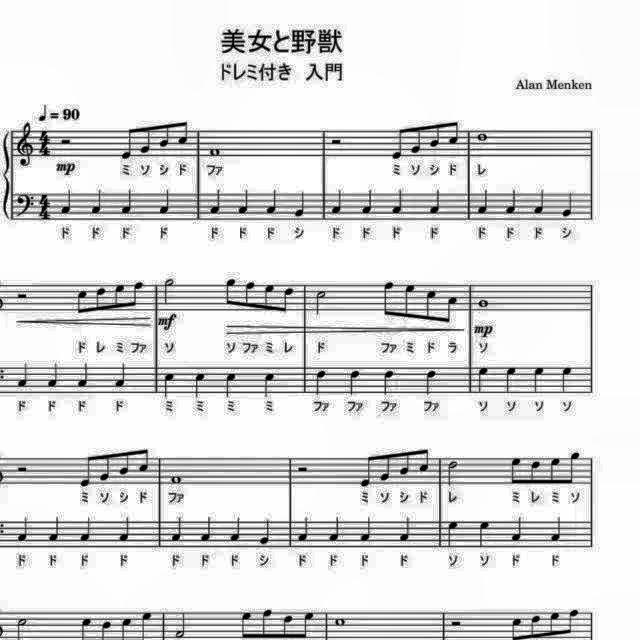Bass-clef: (12, 190, 36, 220)
Eighth-note: (377, 277, 395, 319), (76, 452, 94, 492), (421, 287, 439, 325), (117, 124, 135, 162), (357, 453, 375, 491), (402, 281, 418, 323), (387, 126, 405, 162), (566, 448, 582, 486), (98, 448, 114, 484), (506, 454, 522, 490), (72, 286, 90, 318), (262, 282, 278, 316), (138, 122, 154, 156), (378, 449, 394, 483), (222, 275, 238, 309), (235, 608, 252, 640), (300, 610, 318, 640), (94, 284, 110, 316), (410, 124, 426, 156), (564, 606, 580, 638), (446, 116, 462, 148), (280, 285, 296, 317), (548, 454, 564, 486), (118, 448, 134, 480), (242, 278, 258, 310), (136, 443, 152, 475), (546, 608, 562, 640), (416, 443, 432, 475), (158, 120, 174, 152), (260, 608, 276, 640), (442, 292, 458, 324), (130, 278, 146, 310), (396, 447, 412, 478), (426, 120, 442, 150), (176, 116, 190, 148), (280, 612, 296, 640), (112, 282, 126, 314), (528, 456, 542, 486)
Full-note: (168, 470, 186, 486), (334, 616, 350, 630), (476, 297, 492, 311), (208, 145, 224, 159), (476, 130, 490, 144)
Half-note: (172, 608, 190, 640), (312, 288, 330, 320), (444, 456, 462, 488), (160, 276, 177, 306)
Half-rest: (58, 132, 74, 150), (12, 461, 30, 475), (12, 288, 30, 302), (448, 617, 464, 631), (329, 136, 346, 148), (294, 462, 310, 474)
Quarter-note: (119, 512, 137, 544), (258, 514, 276, 546), (558, 188, 576, 220), (207, 187, 225, 217), (380, 368, 398, 398), (157, 187, 175, 217), (261, 370, 279, 400), (190, 369, 208, 399), (422, 367, 440, 397), (311, 366, 329, 396), (387, 188, 405, 218), (425, 187, 443, 217), (161, 370, 179, 400), (198, 514, 216, 544), (358, 187, 376, 217), (446, 518, 462, 550), (550, 512, 566, 544), (477, 518, 493, 550), (90, 186, 106, 218), (502, 364, 518, 396), (530, 186, 546, 218), (59, 187, 76, 217), (223, 369, 240, 399), (170, 514, 187, 544), (15, 361, 32, 391), (14, 515, 31, 545), (534, 362, 550, 393), (120, 187, 136, 217), (476, 187, 492, 217), (78, 513, 94, 543), (476, 365, 492, 395), (346, 366, 362, 396), (558, 364, 574, 394), (296, 515, 312, 545), (112, 359, 128, 389), (508, 513, 524, 543), (330, 187, 346, 217), (236, 187, 252, 217), (292, 191, 308, 221), (396, 514, 412, 544), (228, 515, 244, 545), (358, 514, 374, 544), (44, 361, 60, 391), (74, 359, 90, 389), (46, 514, 62, 544), (504, 185, 520, 215), (264, 187, 280, 217), (326, 514, 342, 544)
Treble-clef: (13, 120, 35, 168)
